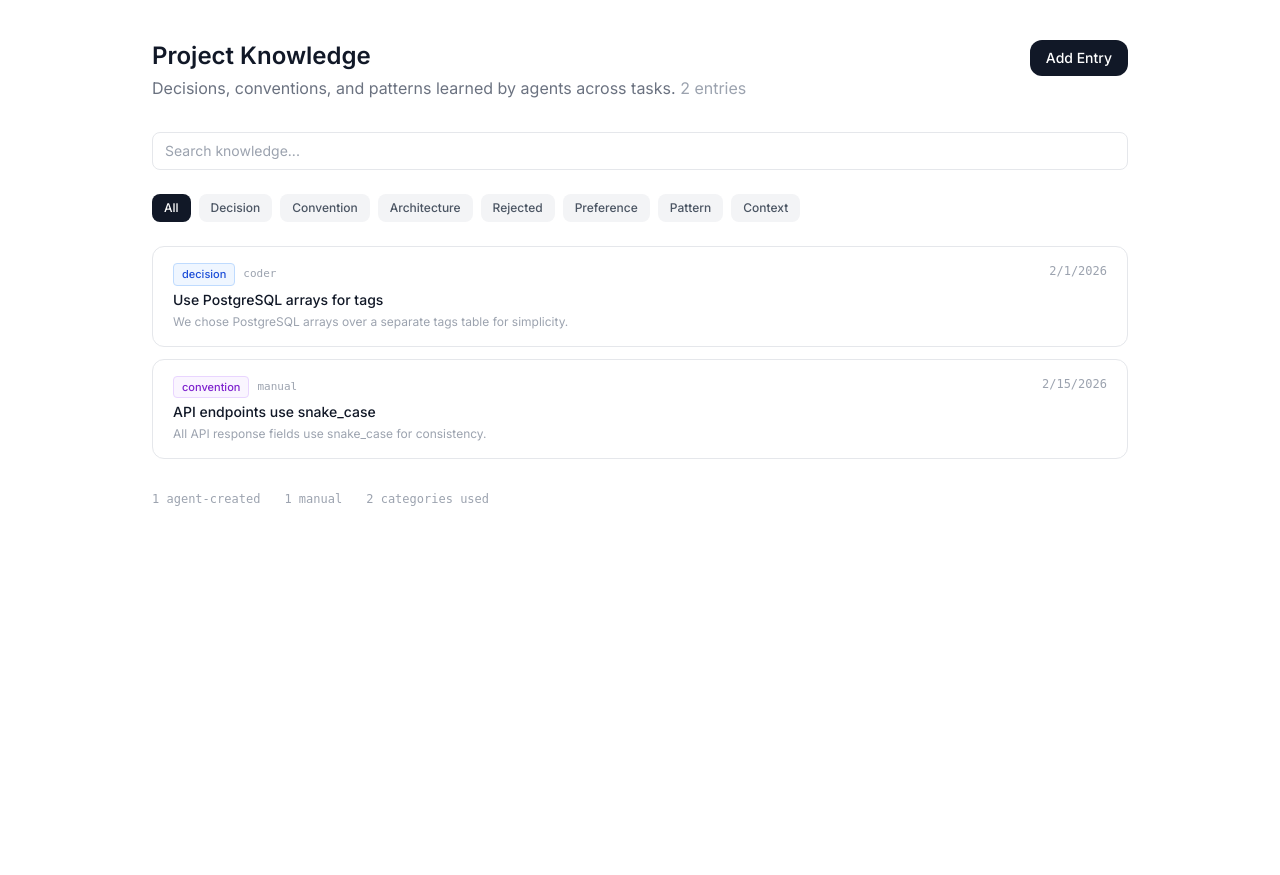
Test: KnowledgePage › clicking Add Entry again (Cancel) closes the form
The image size is (1280, 875).
expect the heading "Project Knowledge" is shown: met, box [152,41,371,70]
Click the button "Add Entry". click: (1079, 58)
box: [1030,40,1128,76]
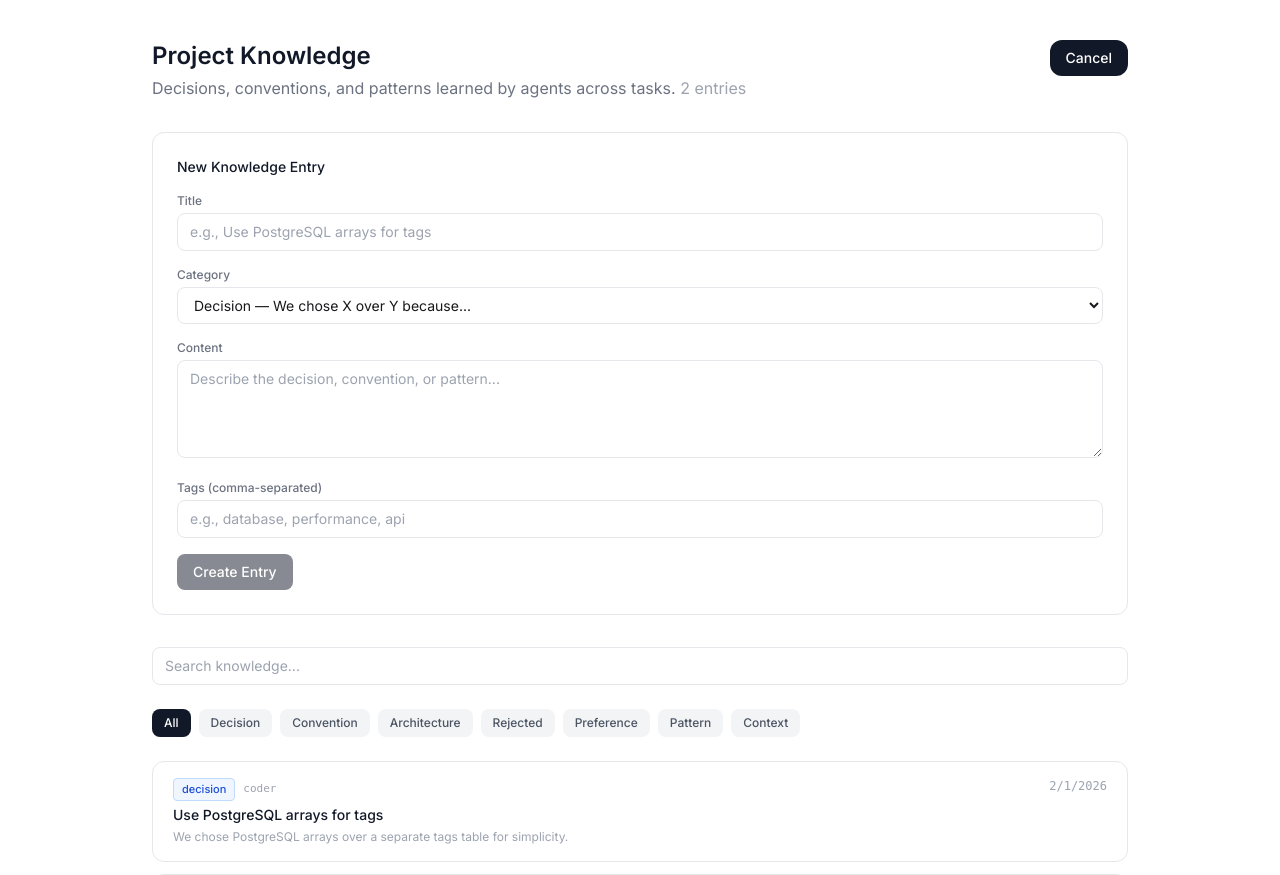
expect the heading "New Knowledge Entry" is shown: met, box [177,158,325,175]
// Button text changes to Cancel
Click the button "Cancel". click: (1089, 58)
box: [1050,40,1128,76]
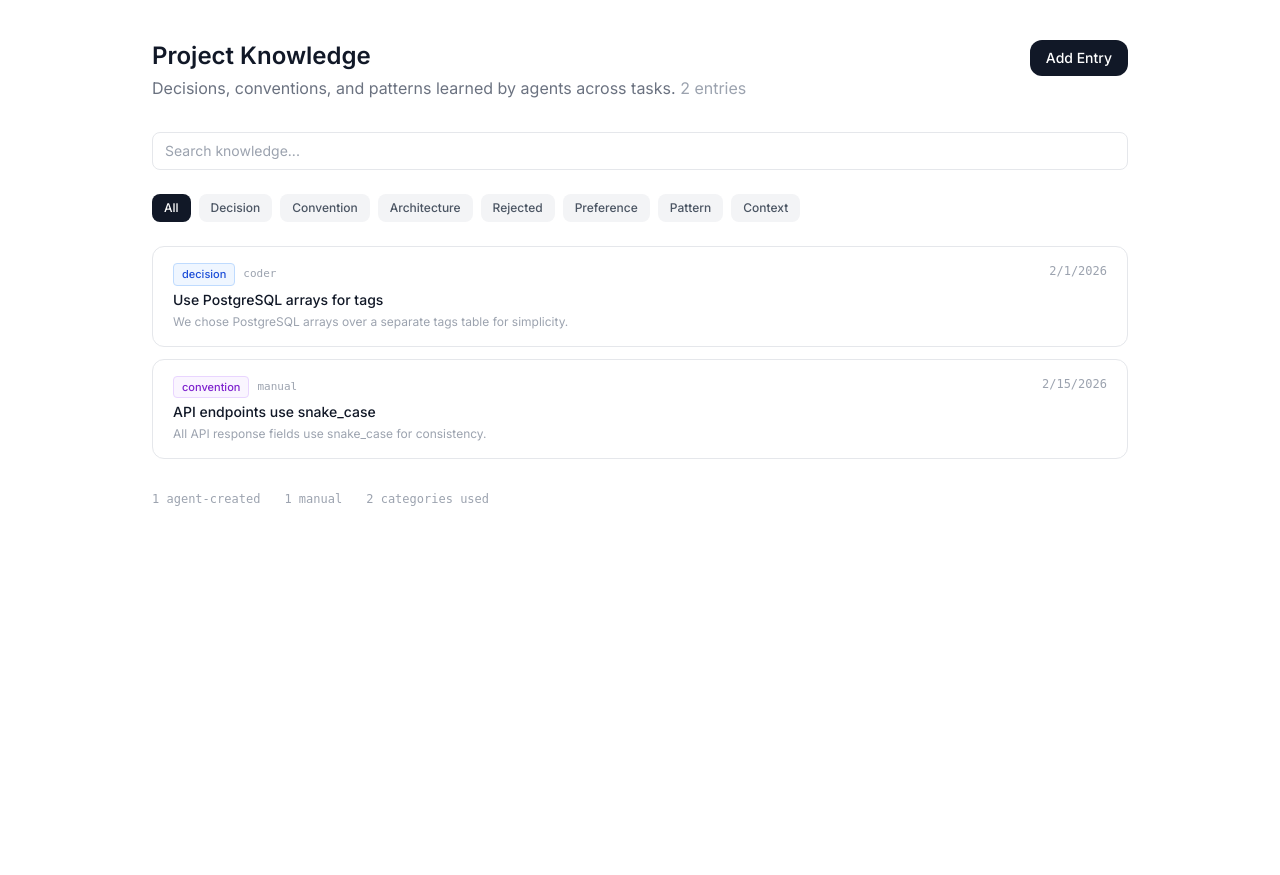
expect the heading "New Knowledge Entry" is gone: met
